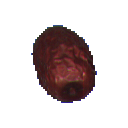gd: (23, 15, 110, 115)
